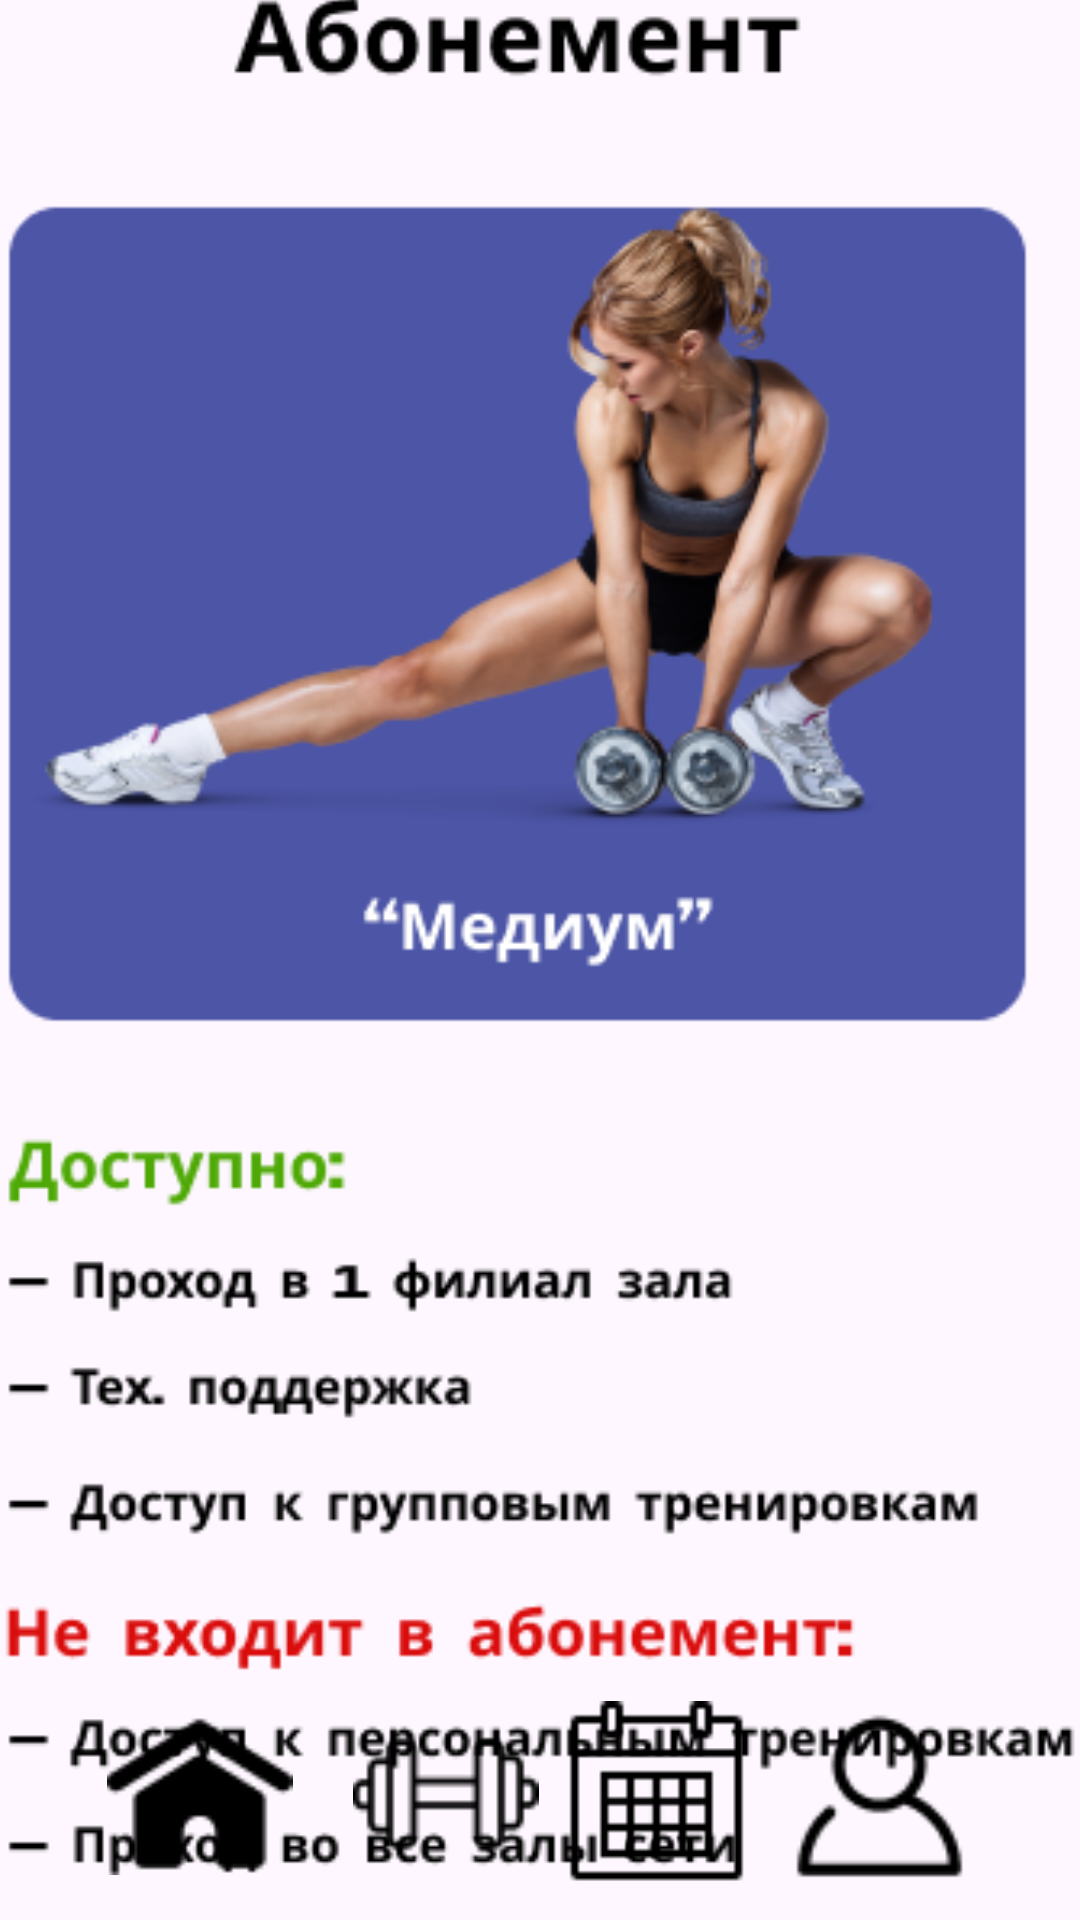

Point at icon controls on the screen. Image size 1080×1920, points as [x,y].
home: [213,1796]
profile: [896,1796]
schedule: [688,1791]
trener: [423,1795]
